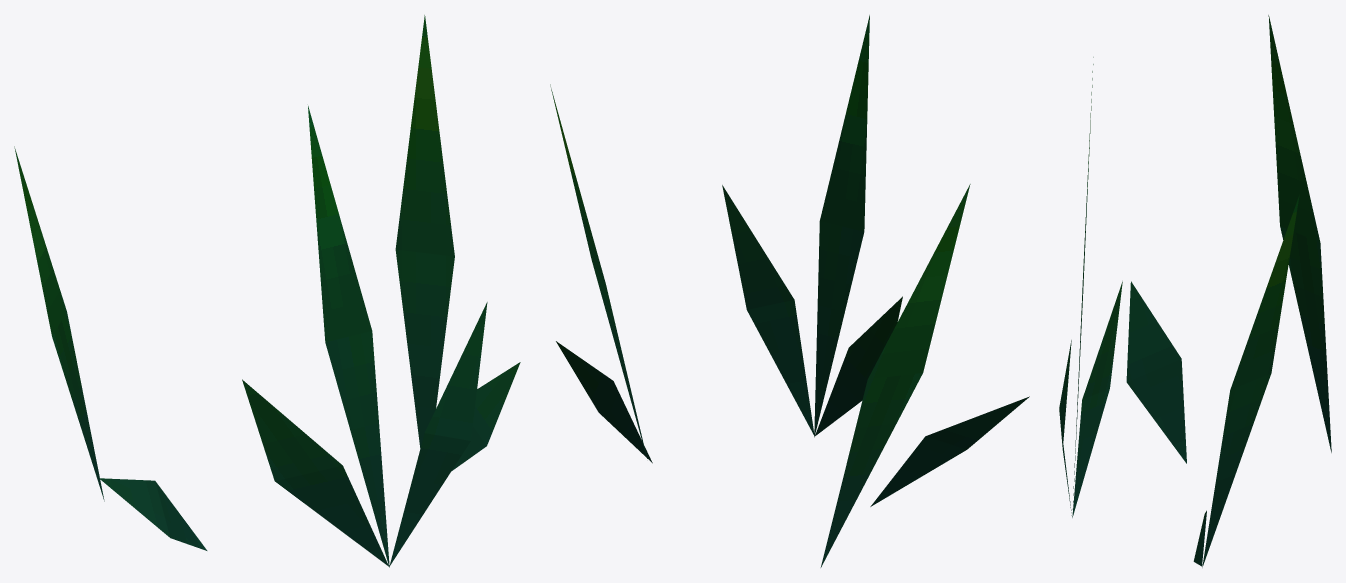
Rendered from plants_me_level_grass41.gltf.
3 renders of one model, left to right at view 1: azimuth 30°, elevation 25°; view 2: azimuth 150°, elevation 25°; view 3: azimuth 270°, elevation 25°, orthographic. The views are drawn at different scales.
Visible parts, largest first — view 1: um_plants_me_level_grass41_model_plants_me_level_grass41_mod; view 2: um_plants_me_level_grass41_model_plants_me_level_grass41_mod; view 3: um_plants_me_level_grass41_model_plants_me_level_grass41_mod.
Boxes of the visible parts, bbox=[...] form: um_plants_me_level_grass41_model_plants_me_level_grass41_mod: bbox=[14, 15, 520, 567]; um_plants_me_level_grass41_model_plants_me_level_grass41_mod: bbox=[550, 15, 1029, 567]; um_plants_me_level_grass41_model_plants_me_level_grass41_mod: bbox=[1059, 15, 1331, 567].
Size of the model in its own units: 0.4698 by 0.45 by 0.2521.
1 material, 1 textured.
